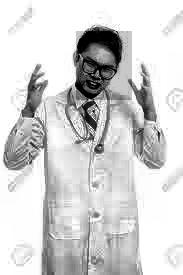angry: (76, 32, 132, 101)
